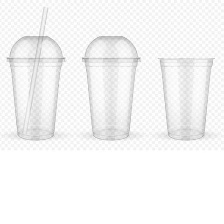drinking_straw: (18, 3, 50, 135)
glass: (76, 31, 146, 142), (9, 32, 63, 142), (154, 55, 218, 142)
